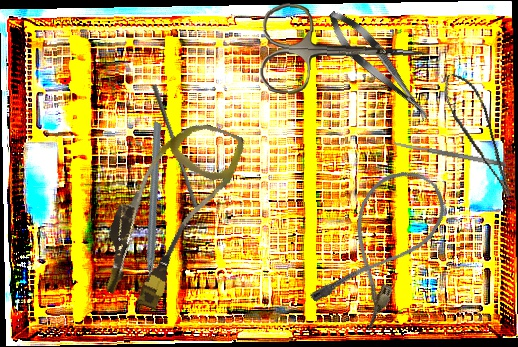Cannula: (88, 105, 248, 319), (304, 155, 458, 336)
Chopper: (82, 120, 231, 307)
Iris Scissors: (259, 2, 433, 101)
Micro Scissor: (320, 3, 438, 129), (438, 66, 516, 206)
Pusher: (146, 83, 203, 209)
Spatula Surgical: (393, 140, 507, 168)
